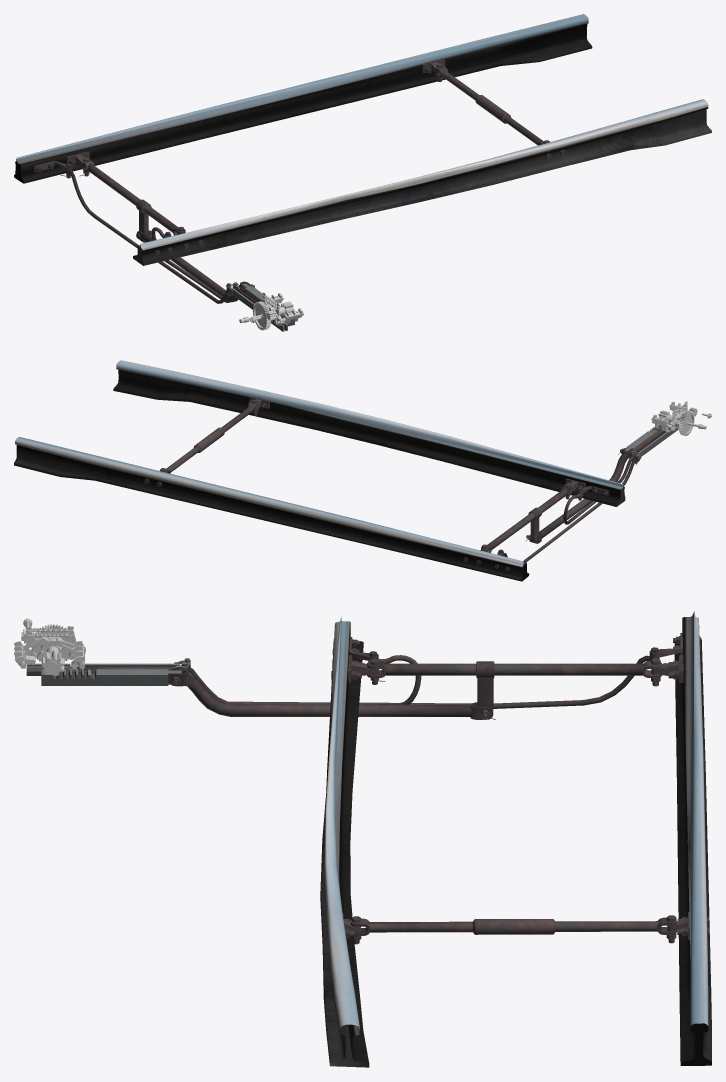
File: sp6_ani_11_otk_StrelPlus_EmgineMinus.fbx
3 renders of one model, top to bottom at view 1: azimuth 30°, elevation 25°; view 2: azimuth 150°, elevation 25°; view 3: azimuth 270°, elevation 25°, orthographic. The views are drawn at different scales.
Parts seen in each view (by area): view 1: ostr_left, ostr_right, soedenit_tyaga_1, soedenit_tyaga_2, tyag_contrl_long, rab_tyaga; view 2: ostr_right, ostr_left, soedenit_tyaga_1, soedenit_tyaga_2, rab_tyaga, tyag_contrl_long, tyag_contrl_short, shiber; view 3: ostr_right, ostr_left, soedenit_tyaga_1, soedenit_tyaga_2, rab_tyaga, shiber, tyag_contrl_long, line_01, shiber_val.
Part boxes in pixels (bbox=[...]): ostr_left: bbox=[14, 14, 592, 183]; ostr_right: bbox=[133, 99, 711, 265]; soedenit_tyaga_1: bbox=[79, 157, 185, 235]; soedenit_tyaga_2: bbox=[435, 63, 549, 145]; tyag_contrl_long: bbox=[60, 163, 231, 303]; rab_tyaga: bbox=[136, 230, 254, 302]; ostr_right: bbox=[113, 360, 625, 506]; ostr_left: bbox=[14, 437, 529, 581]; soedenit_tyaga_1: bbox=[481, 483, 571, 552]; soedenit_tyaga_2: bbox=[159, 399, 259, 473]; rab_tyaga: bbox=[526, 448, 632, 543]; tyag_contrl_long: bbox=[498, 456, 638, 562]; tyag_contrl_short: bbox=[563, 454, 634, 524]; shiber: bbox=[624, 423, 669, 451]; ostr_right: bbox=[320, 616, 379, 1067]; ostr_left: bbox=[649, 611, 711, 1065]; soedenit_tyaga_1: bbox=[367, 658, 661, 710]; soedenit_tyaga_2: bbox=[350, 915, 676, 944]; rab_tyaga: bbox=[169, 669, 495, 719]; shiber: bbox=[41, 669, 181, 685]; tyag_contrl_long: bbox=[188, 647, 666, 708]; line_01: bbox=[26, 662, 188, 675]; shiber_val: bbox=[41, 636, 65, 676].
Bounding box in the file's own units: 3.84 × 0.3386 × 2.71.
